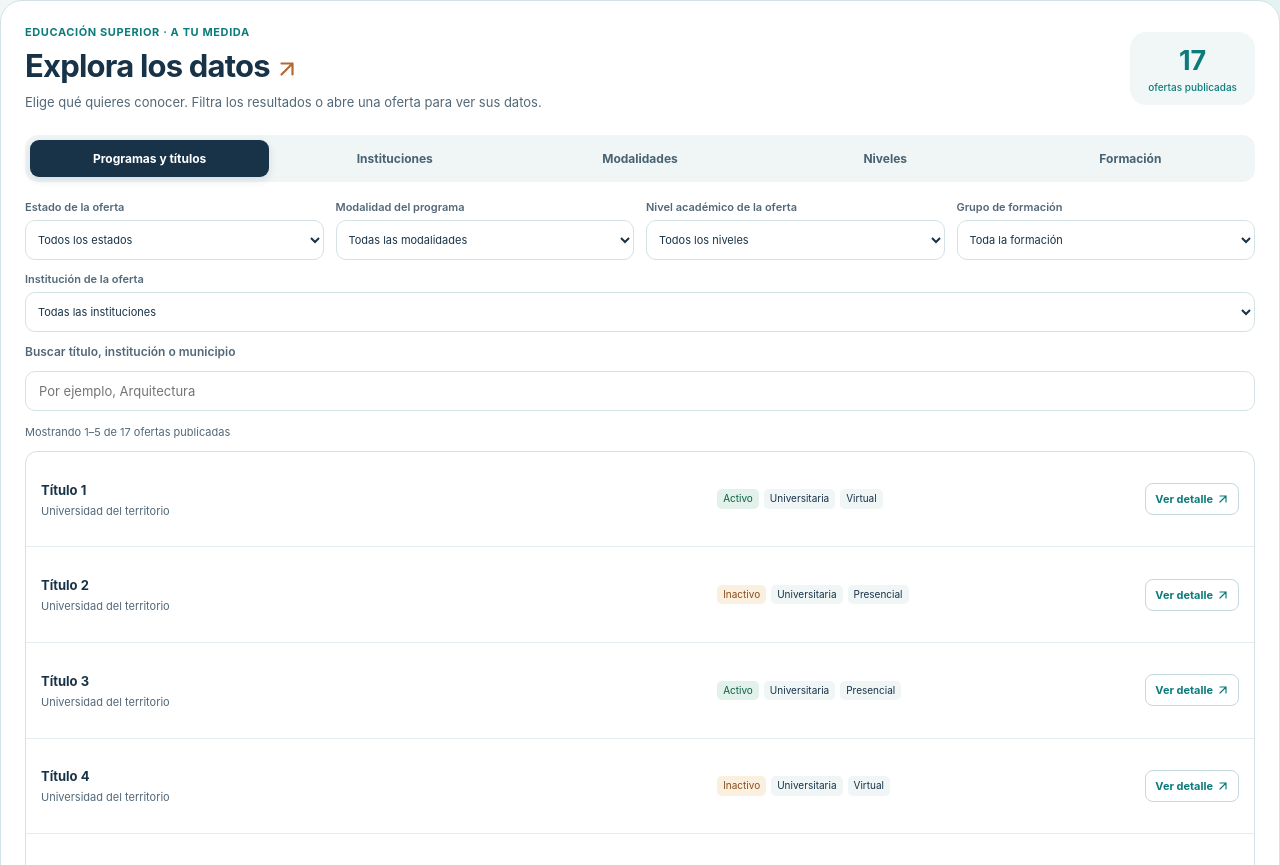
Test: explorador de educación superior › abre la oferta de una institución en el mismo panel y permite explorar pregrado o posgrado
Click the tab "Instituciones" at (395, 158), box [275,140,514,177]
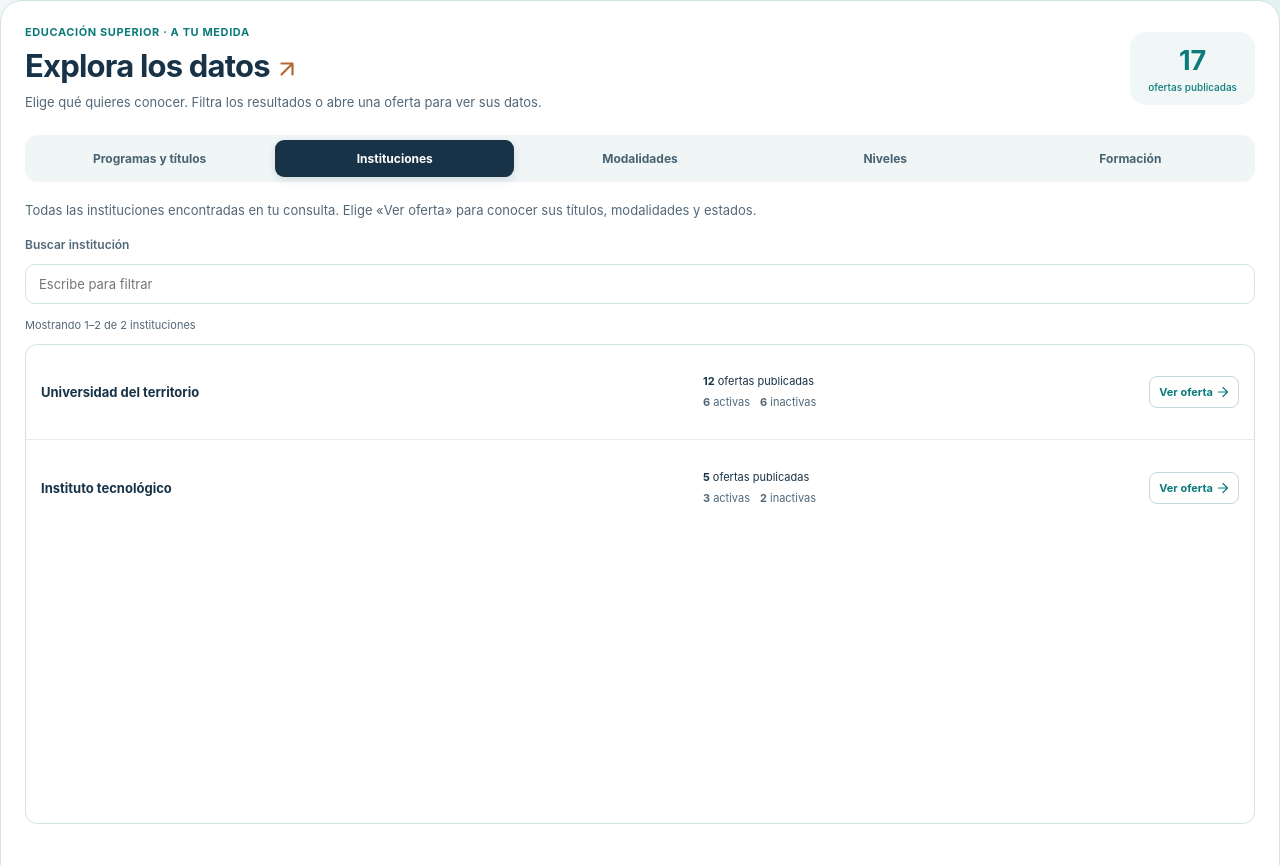
Check: the text "Universidad del territorio" is shown, box [41,384,199,400]
Check: the text "ofertas publicadas" is shown 2 times, box [703,374,814,388]; [703,470,809,484]
Click the button with aria-label "Ver oferta de Instituto tecnológico" at (1194, 488), box [1149,472,1239,504]
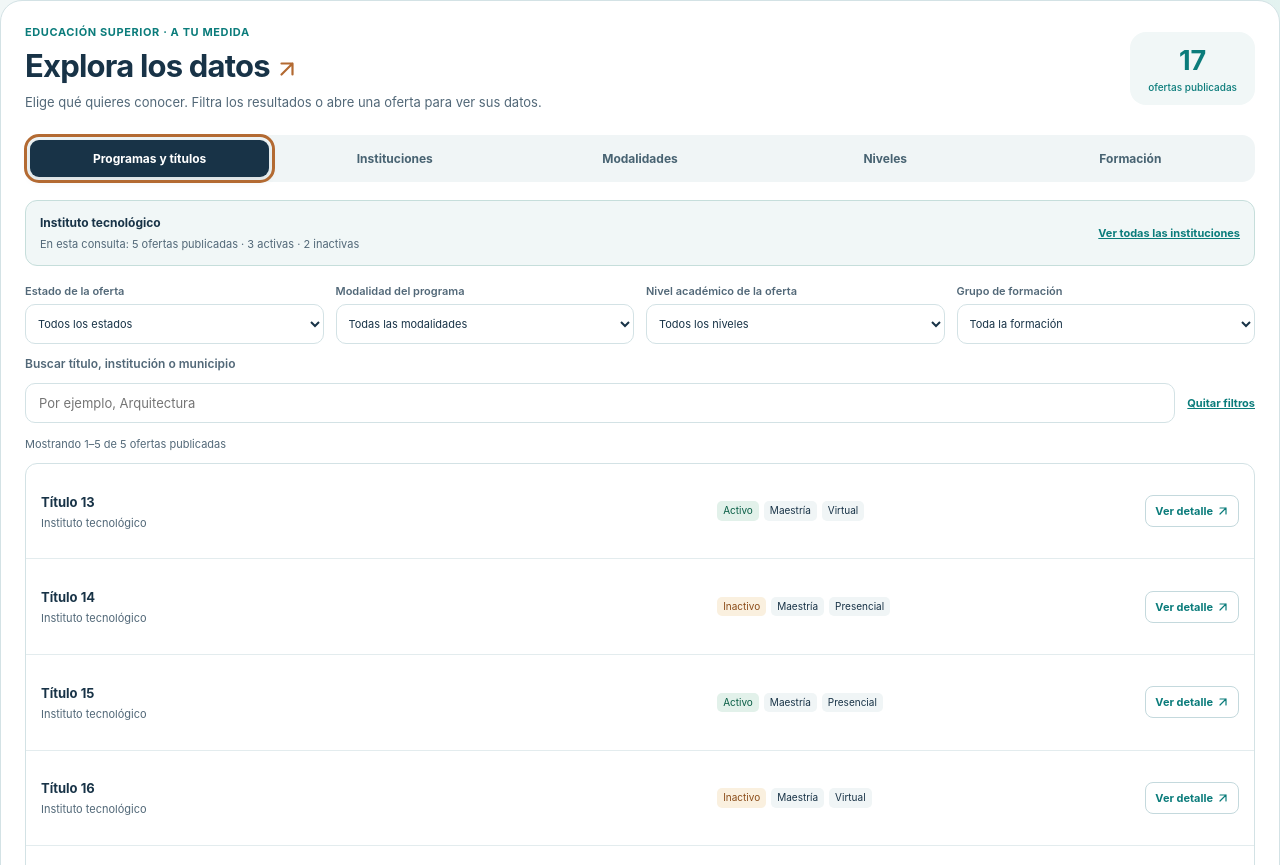
Check: the text "En esta consulta: 5 ofertas publicadas · 3 activas · 2 inactivas" is shown, box [40,237,359,251]
Type "Derecho" into the search field labelled "Buscar título, institución o municipio" at (600, 403), box [25,383,1175,423]
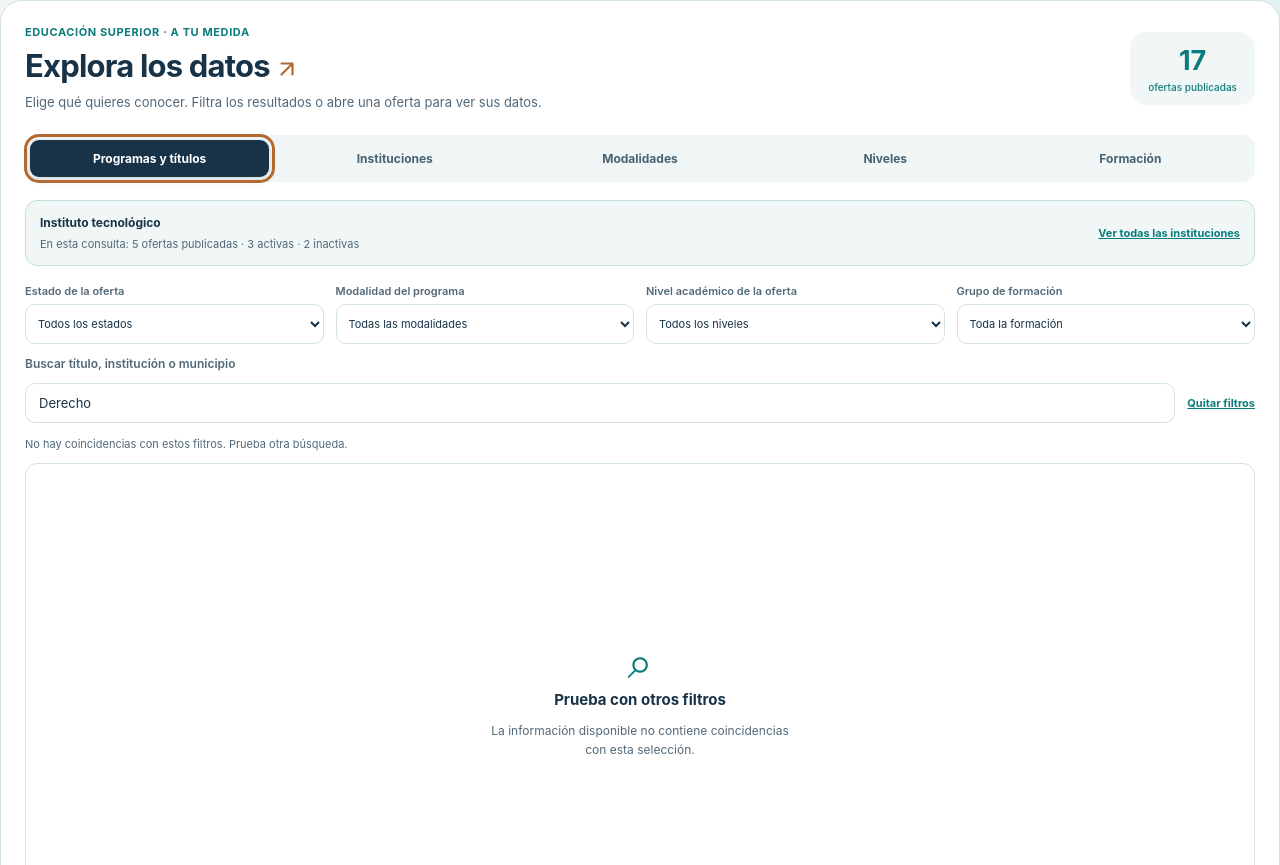
Check: the text "Prueba con otros filtros" is shown, box [554,690,726,709]
Click the button "Ver todas las instituciones" at (1169, 233), box [1098,220,1240,246]
(page scrolled)
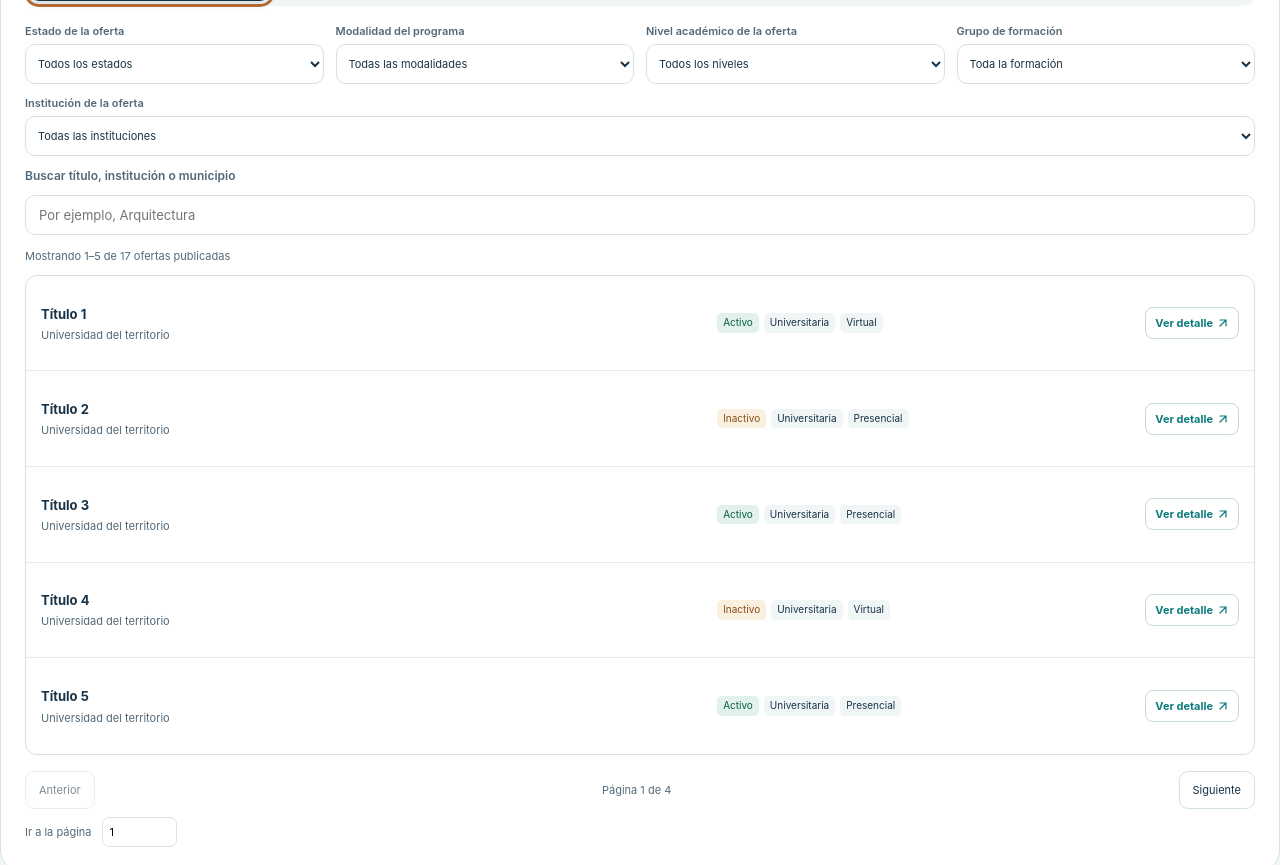
Check: the list named "Oferta de educación superior" is shown, box [26,276,1254,754]
